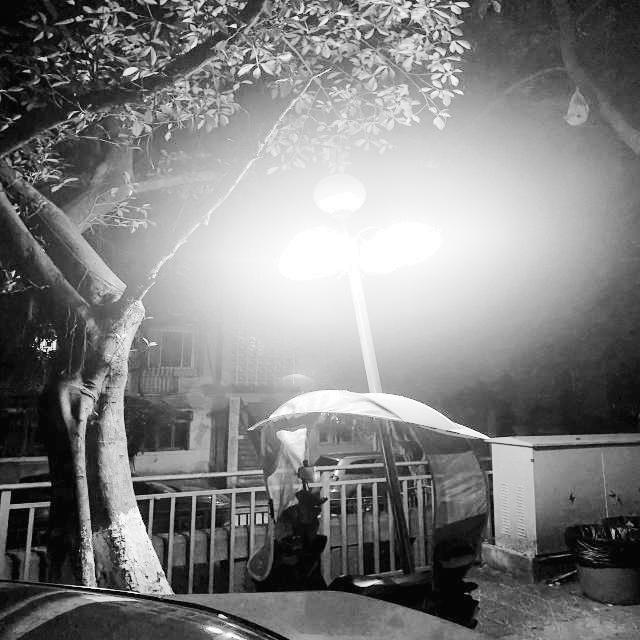Light: (274, 168, 431, 467)
Tree: (1, 50, 212, 605)
